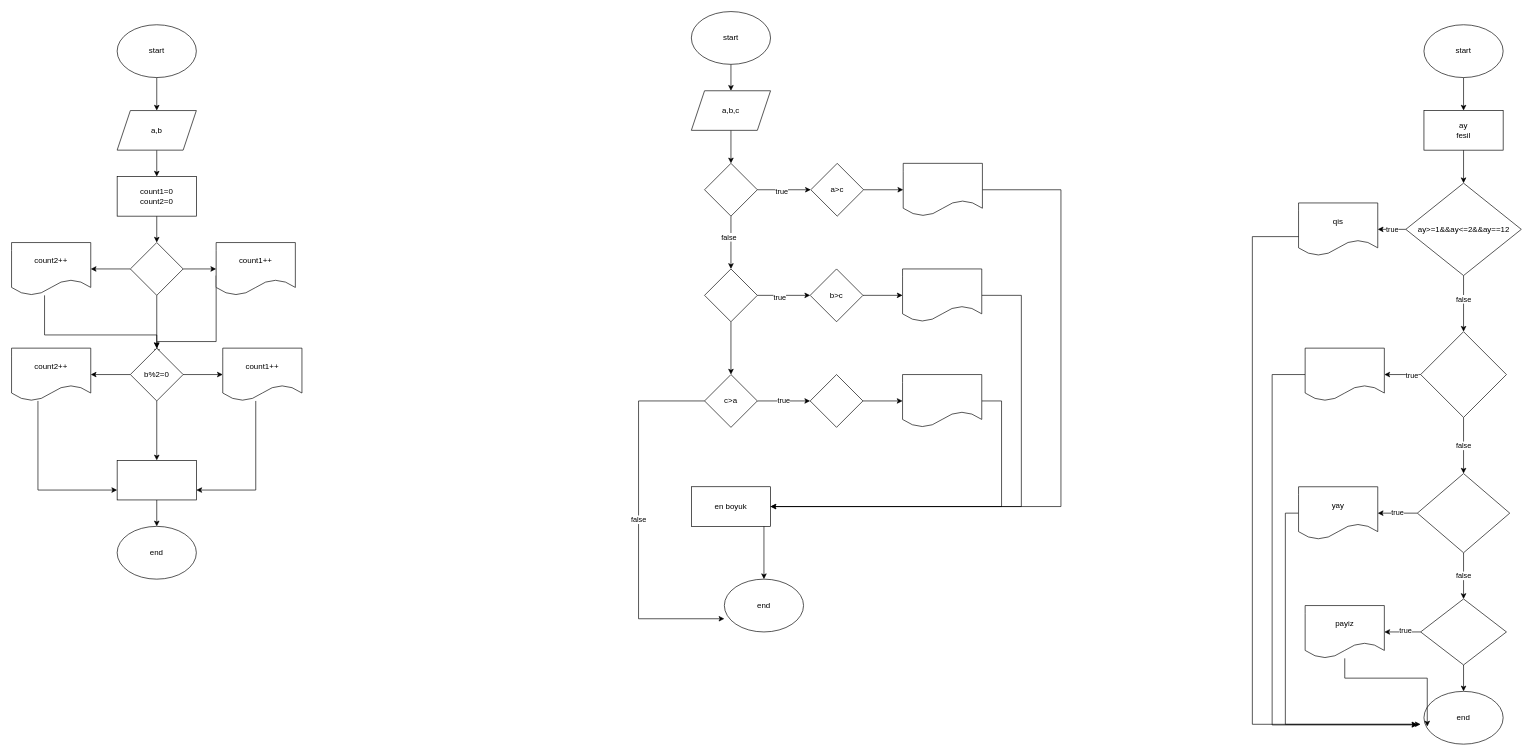
Image size: 1533x756. Some labels were removed from this diagram. The centre of each missing label's shape, as x and y in pixels:
"a%2=0" goes at (x=156, y=268).
"a>b" goes at (x=730, y=189).
"ay>2&&ay>=5" goes at (x=1463, y=374).
"ay>5&&ay<=8" goes at (x=1463, y=513).
"ay>8&&ay<=11" goes at (x=1463, y=631).
"b>a" goes at (x=730, y=295).
"c>b" goes at (x=836, y=400).
"count1 count2" goes at (x=156, y=480).
"en boyuk a" goes at (x=942, y=189).
"en boyuk b" goes at (x=942, y=295).
"en boyuk c" goes at (x=942, y=400).
"yaz" goes at (x=1344, y=374).
